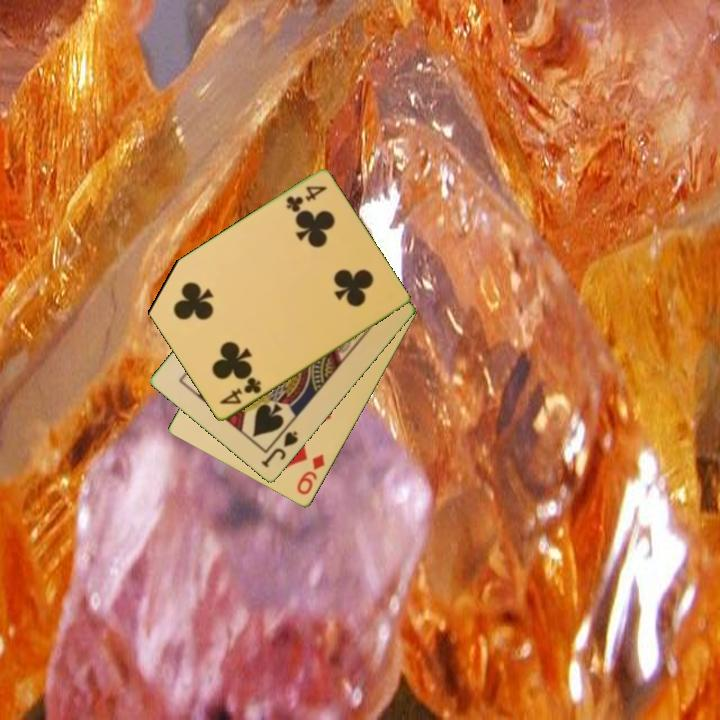4c: (216, 374, 264, 408), (282, 182, 330, 216)
9d: (293, 451, 328, 498)
Js: (258, 428, 301, 471)
